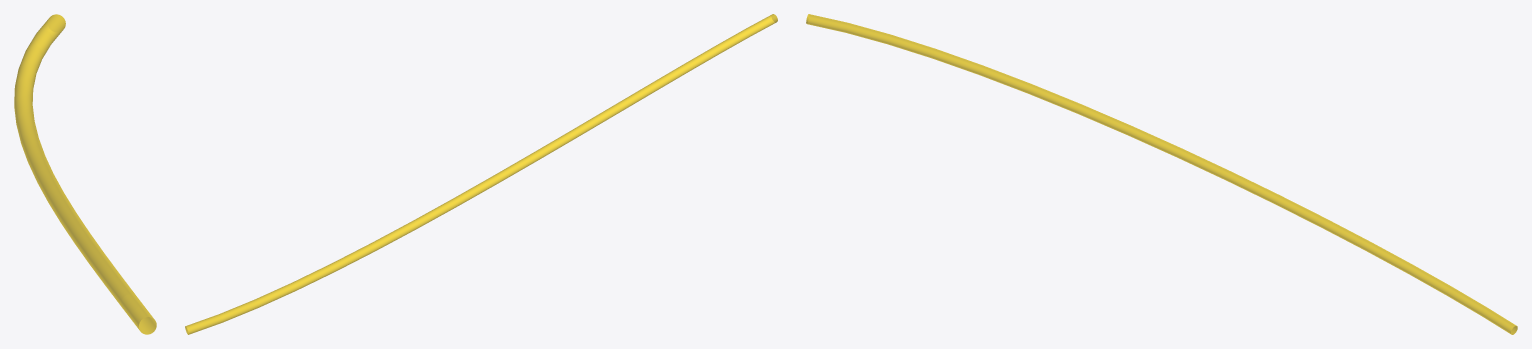
File: Event_17758602_track_100.fbx
3 views of the same model, side by side, from view 1: azimuth 90°, elevation 25°; view 2: azimuth 210°, elevation 25°; view 3: azimuth 330°, elevation 25° (orthographic). The views are drawn at different scales.
Parts seen in each view (by area): view 1: Model; view 2: Model; view 3: Model.
Boxes of the visible parts, box(x1,y1,x2,y2) form: Model: box(14, 14, 156, 334); Model: box(185, 14, 777, 334); Model: box(806, 14, 1517, 334).
Size of the model in its own units: 3.05 by 0.7366 by 0.3072.
